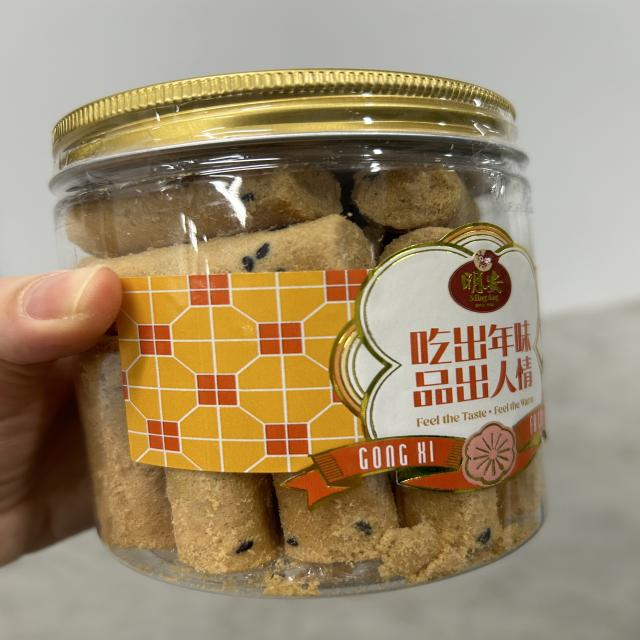object_name: (108, 110, 541, 552)
